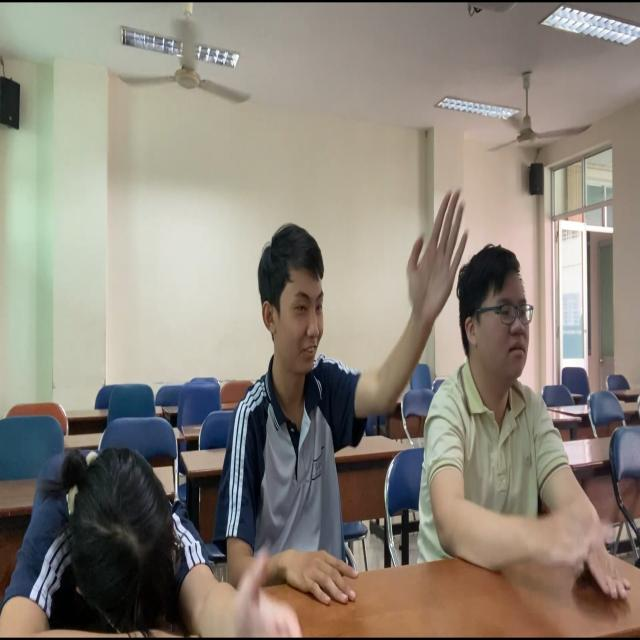sleep: (5, 446, 225, 640)
